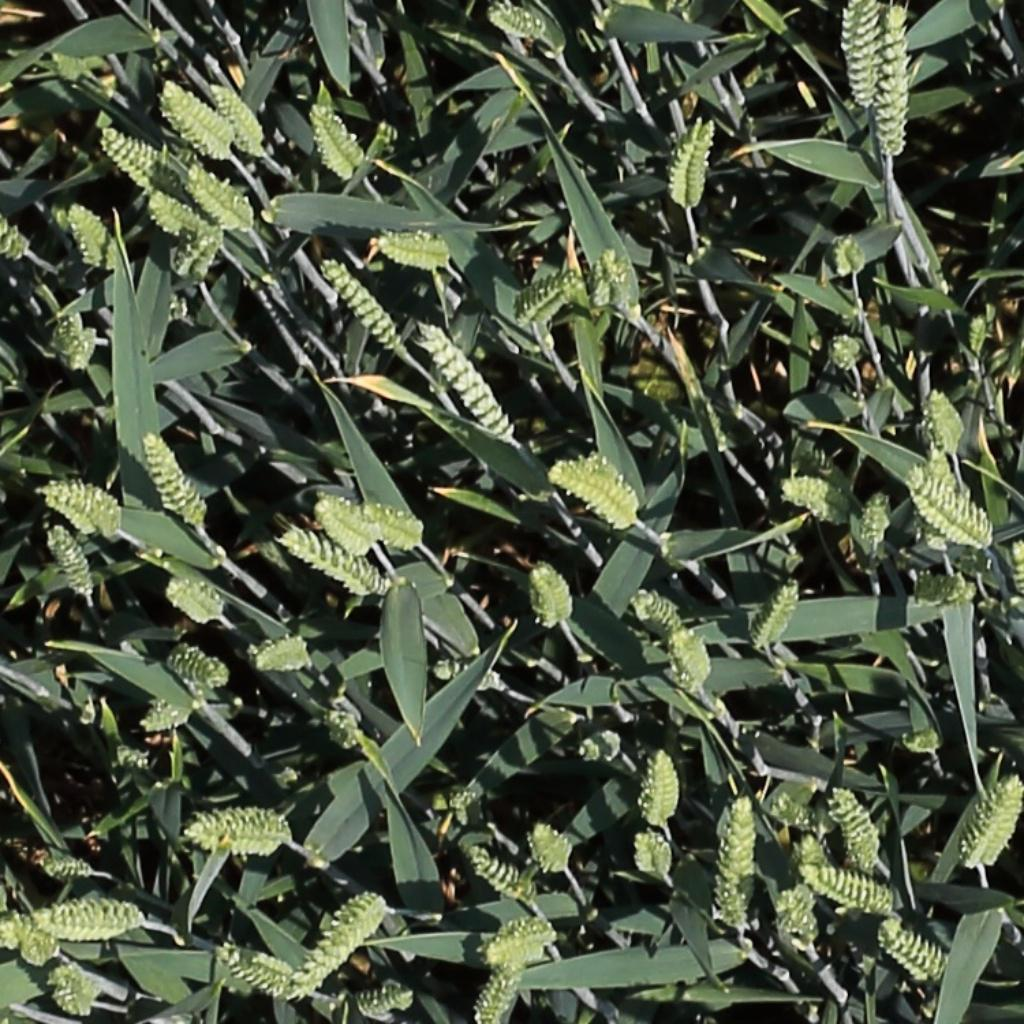0-0: (416, 315, 520, 442), (289, 888, 390, 998), (320, 253, 408, 354), (540, 443, 636, 527), (139, 425, 210, 531), (312, 489, 425, 553), (870, 6, 912, 163), (283, 532, 387, 595), (25, 893, 145, 944), (187, 808, 295, 864), (961, 776, 1021, 872), (909, 471, 992, 539), (177, 79, 244, 158), (663, 111, 716, 210), (206, 75, 268, 157), (774, 464, 854, 527), (477, 909, 558, 971), (718, 794, 753, 935), (95, 122, 165, 191), (161, 83, 236, 147), (840, 0, 883, 111), (802, 868, 898, 916), (832, 785, 884, 873), (185, 162, 251, 230), (308, 98, 364, 178), (45, 518, 96, 603), (753, 573, 805, 656), (880, 920, 948, 983), (466, 846, 536, 906), (912, 491, 985, 547), (215, 944, 289, 998), (174, 215, 226, 286), (514, 270, 587, 320), (46, 484, 120, 532), (636, 744, 677, 829), (312, 497, 372, 554), (924, 383, 968, 460), (64, 197, 111, 268), (477, 955, 524, 1024), (369, 231, 450, 270), (531, 559, 573, 633), (670, 625, 715, 694), (147, 192, 214, 237), (778, 880, 821, 950), (0, 128, 23, 258), (49, 962, 101, 1018), (434, 652, 502, 694), (529, 817, 574, 879), (1, 916, 60, 963), (165, 578, 225, 622), (54, 305, 92, 372), (632, 591, 686, 636), (348, 988, 416, 1023), (322, 705, 365, 757), (637, 827, 673, 888), (430, 788, 486, 827), (488, 4, 550, 38), (166, 651, 226, 686), (835, 225, 868, 282), (865, 483, 891, 555), (578, 732, 631, 767), (141, 701, 198, 732), (251, 641, 312, 669), (914, 576, 970, 604), (832, 333, 865, 374), (966, 305, 991, 359), (1006, 532, 1024, 604), (38, 860, 95, 879), (110, 746, 159, 768), (803, 830, 833, 865), (253, 954, 296, 978), (0, 923, 21, 952)
